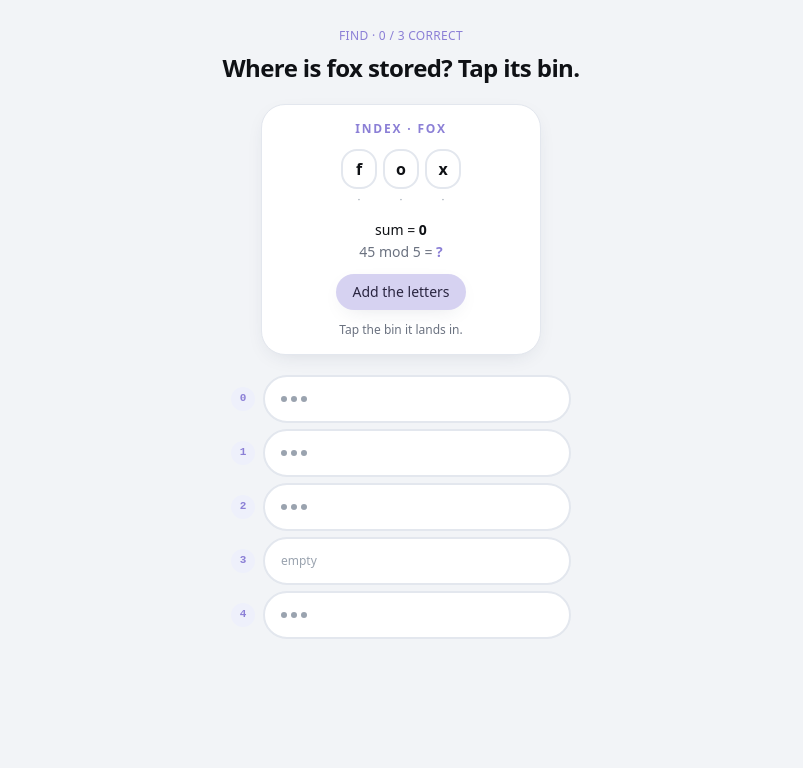
Test: lookup de-cue (sealed bins, several occupied) › seals several bins at idle and hides the asked bin's contents until commit
Expected: the text "owl" is not shown
Expected: the text "ant" is not shown
What coordinates should you click on to do the following:
click the button named "bin 0"
I would click on:
 (284, 398)
Its box is [263,374,571,422].
(page scrolled)
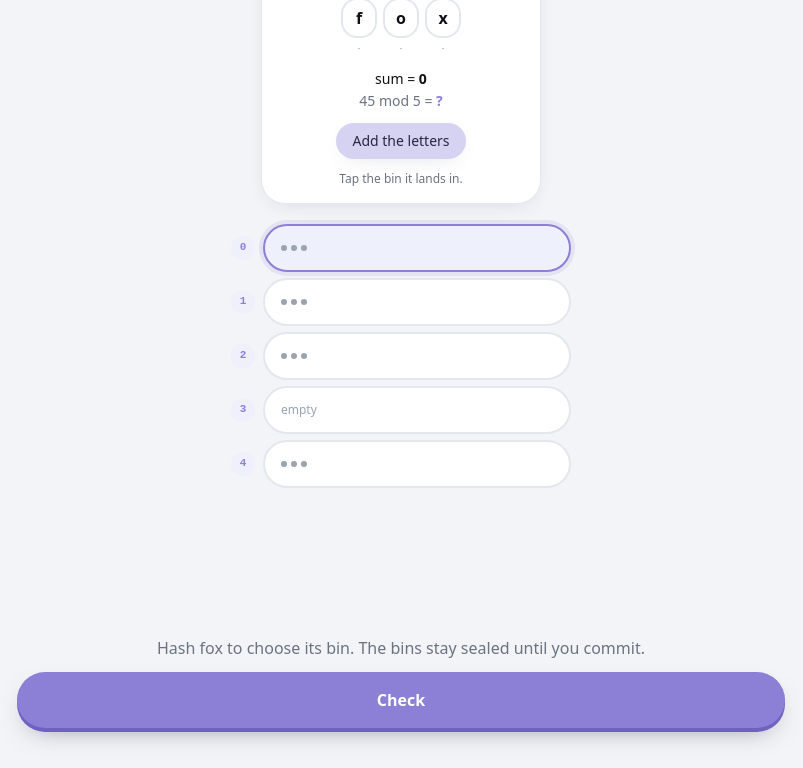
What coordinates should you click on to do the following:
click the button "Check"
I would click on:
 (401, 700)
Its box is [17,672,785,728].
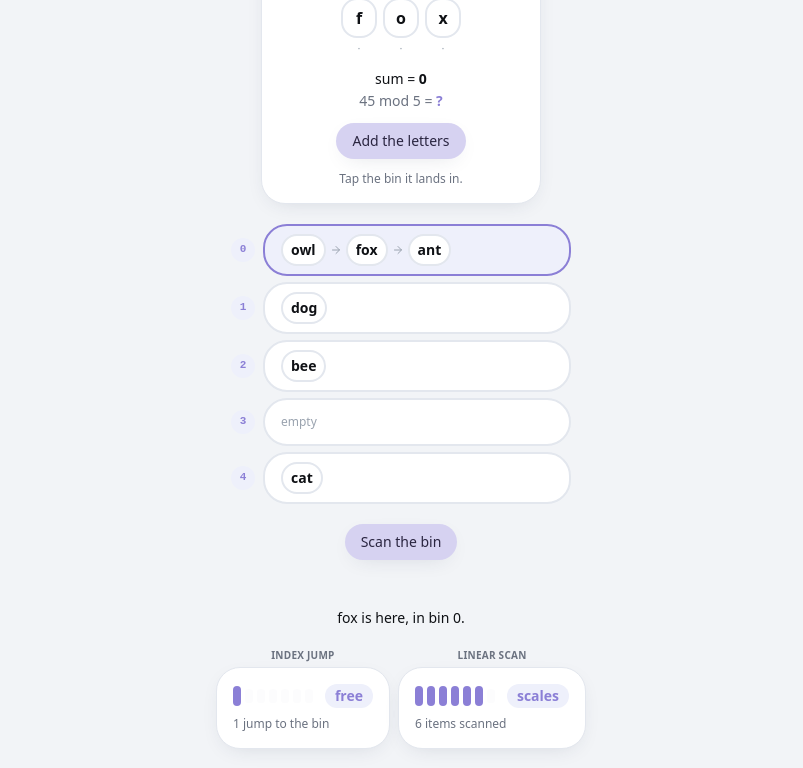
Expected: no elements with test id "sealed-bucket" are shown
Expected: the text "owl" is shown, [281,234,326,266]
Expected: the text "ant" is shown, [408,234,451,266]
